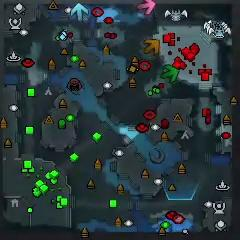x1: (137, 0, 157, 14)
x3: (70, 3, 89, 22)
x4: (161, 64, 179, 83)
x5: (142, 38, 159, 56)
